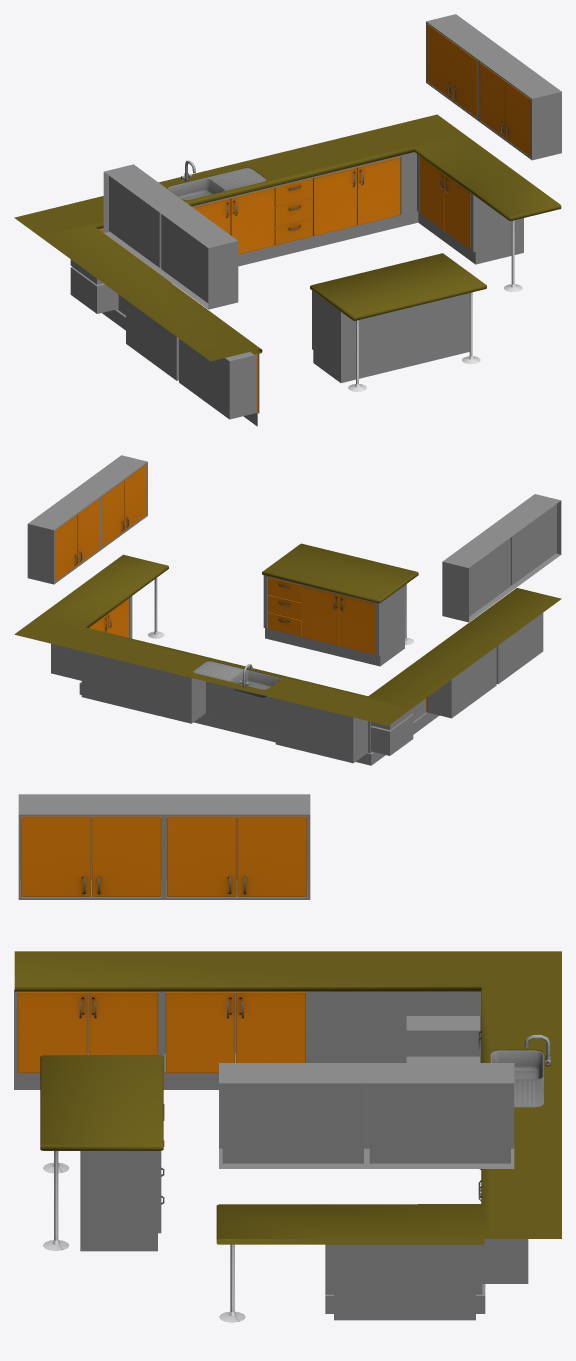
File: Apartment_4_Kitchen.FBX
3 renders of one model, top to bottom at view 1: azimuth 30°, elevation 25°; view 2: azimuth 150°, elevation 25°; view 3: azimuth 270°, elevation 25°, orthographic. The views are drawn at different scales.
Visible parts, largest first — view 1: Apartment_4_Kitchen_Models; view 2: Apartment_4_Kitchen_Models; view 3: Apartment_4_Kitchen_Models.
Boxes of the visible parts, x1,y1,x2,y2 form: Apartment_4_Kitchen_Models: (14,14,561,426); Apartment_4_Kitchen_Models: (14,455,561,765); Apartment_4_Kitchen_Models: (14,794,561,1322).
Bounding box in the file's own units: 518 × 220 × 415.
